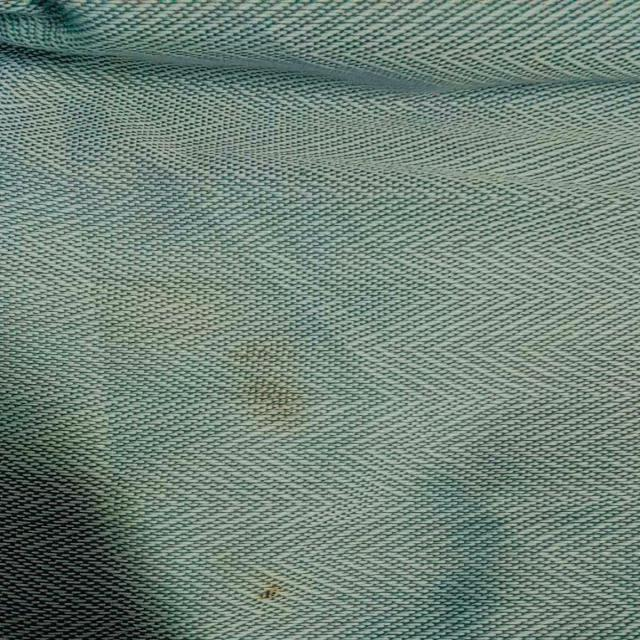stain: (82, 270, 324, 427), (247, 571, 294, 608)
